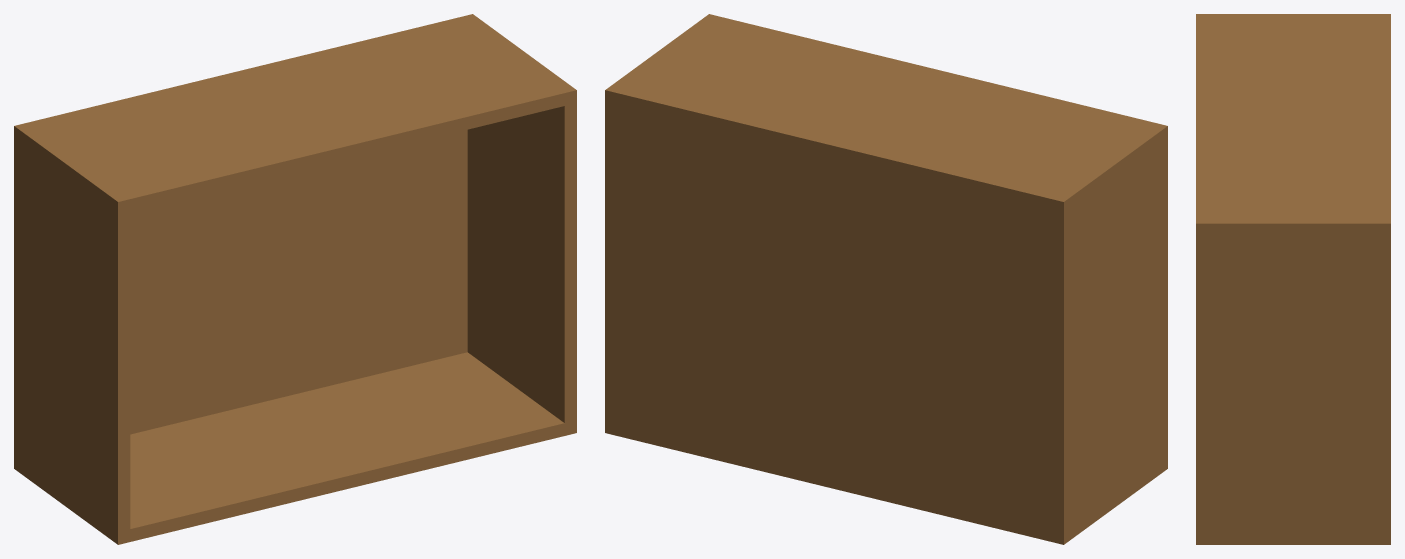
Rendered from tray_fg.obj.
The picture shows the model from 3 angles, left to right: view 1: azimuth 30°, elevation 25°; view 2: azimuth 150°, elevation 25°; view 3: azimuth 270°, elevation 25°; orthographic projection. The views are drawn at different scales.
Parts seen in each view (by area): view 1: carton_dark; view 2: carton_dark; view 3: carton_dark.
Boxes of the visible parts, left/top/right/bottom form: carton_dark: left=14, top=14, right=576, bottom=544; carton_dark: left=605, top=14, right=1167, bottom=544; carton_dark: left=1196, top=14, right=1390, bottom=544.
Bounding box in the file's own units: 0.56 × 0.4 × 0.22.
